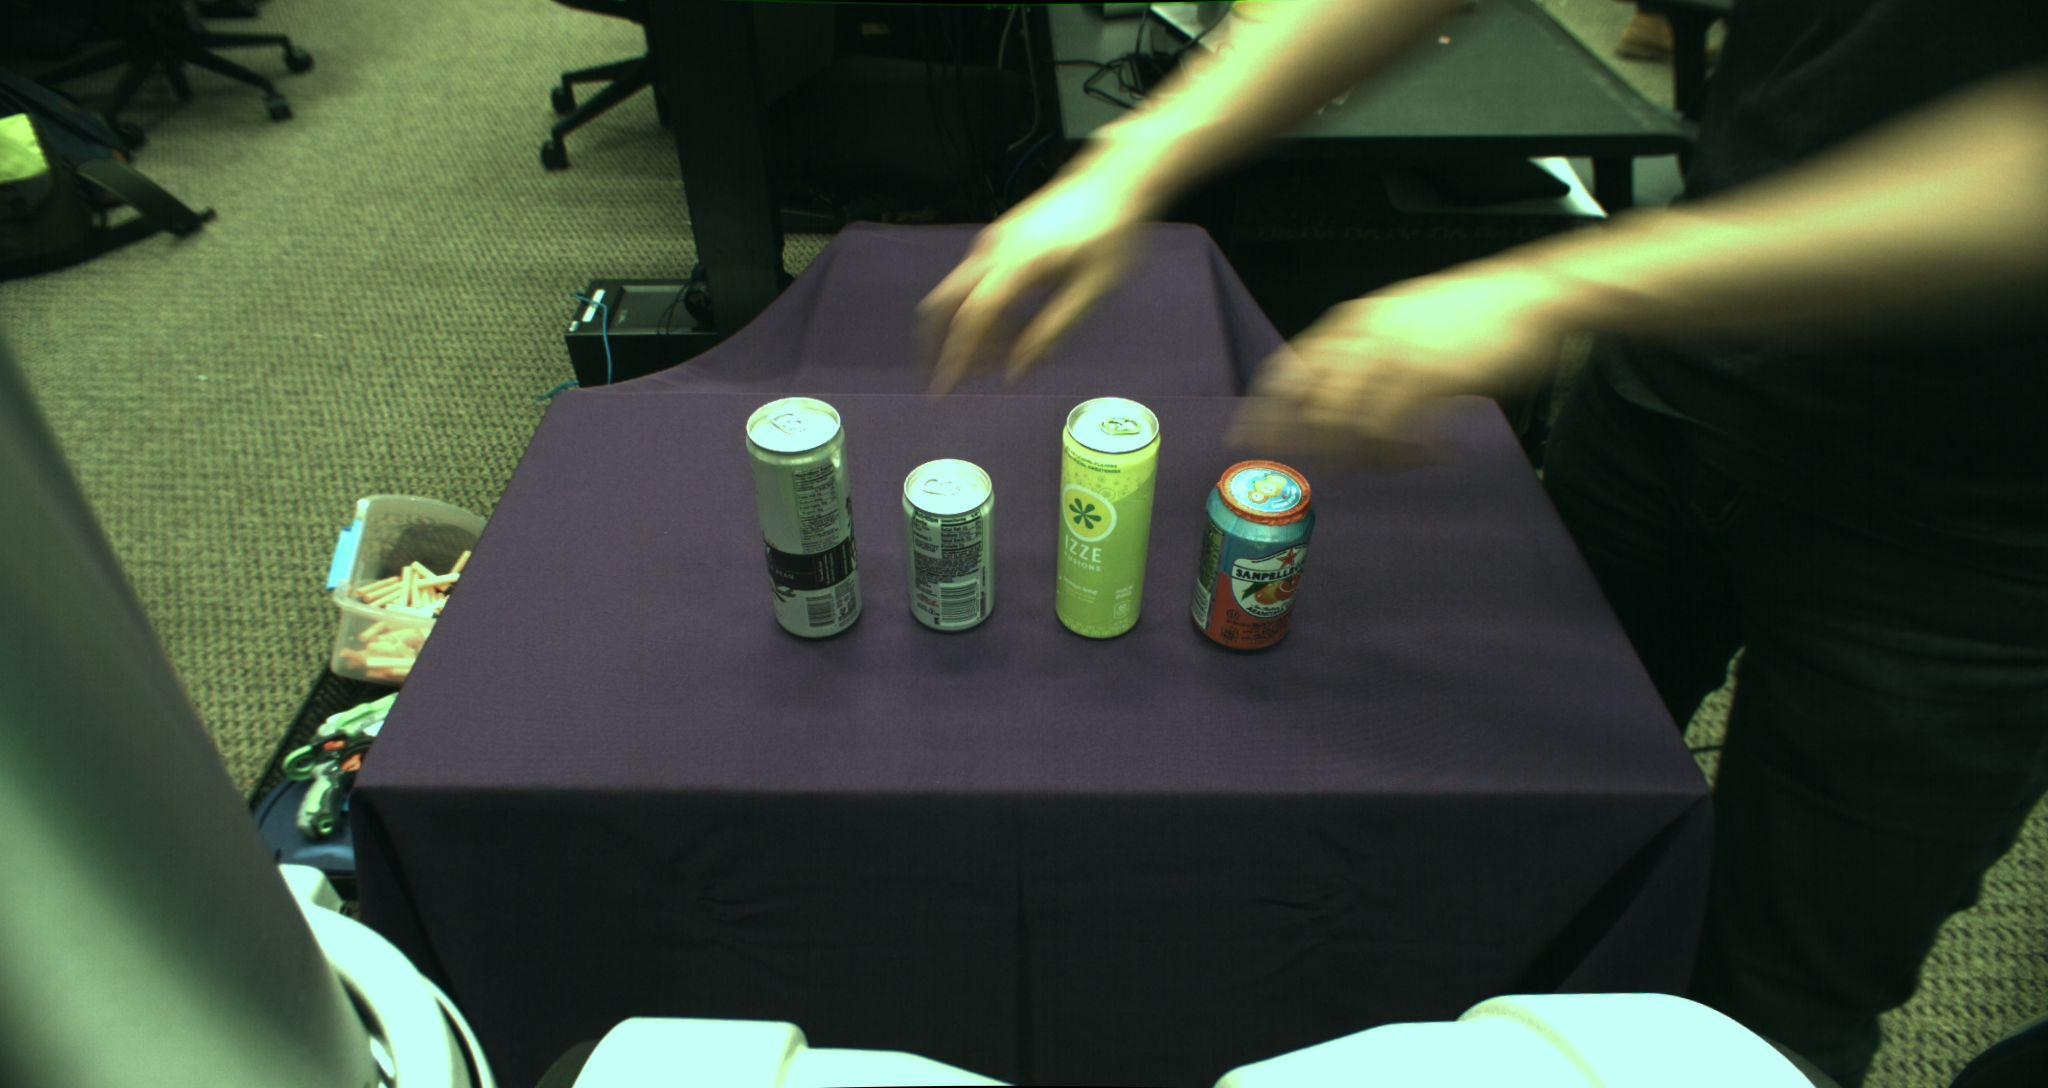can_diet_coke_small: (899, 457, 994, 631)
can_dry_sparkling_vanilla_bean: (745, 396, 863, 638)
can_izze_fusions_lemon_lime: (1057, 396, 1159, 638)
can_sanpellegrino_blood_orange: (1191, 459, 1315, 654)
